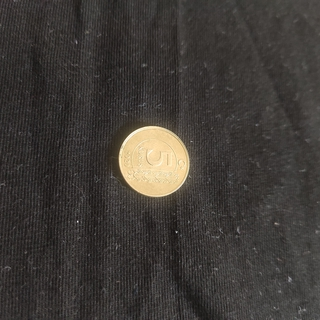5KURUS: (116, 123, 191, 199)
